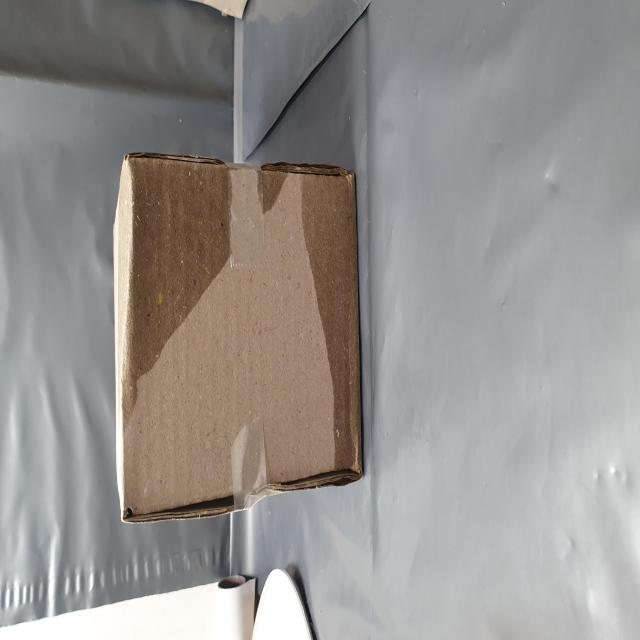wet: (56, 193, 270, 640)
